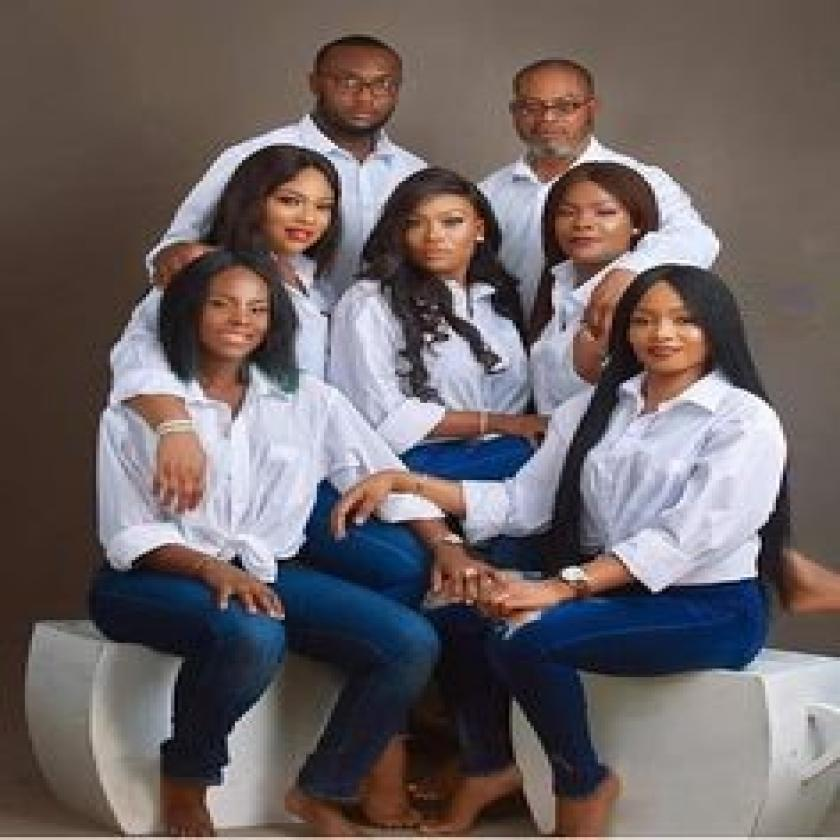Sin_casco: (160, 245, 290, 377), (625, 277, 750, 402), (383, 170, 503, 297), (225, 142, 359, 248), (528, 165, 670, 259), (303, 29, 432, 130), (516, 49, 616, 159)
